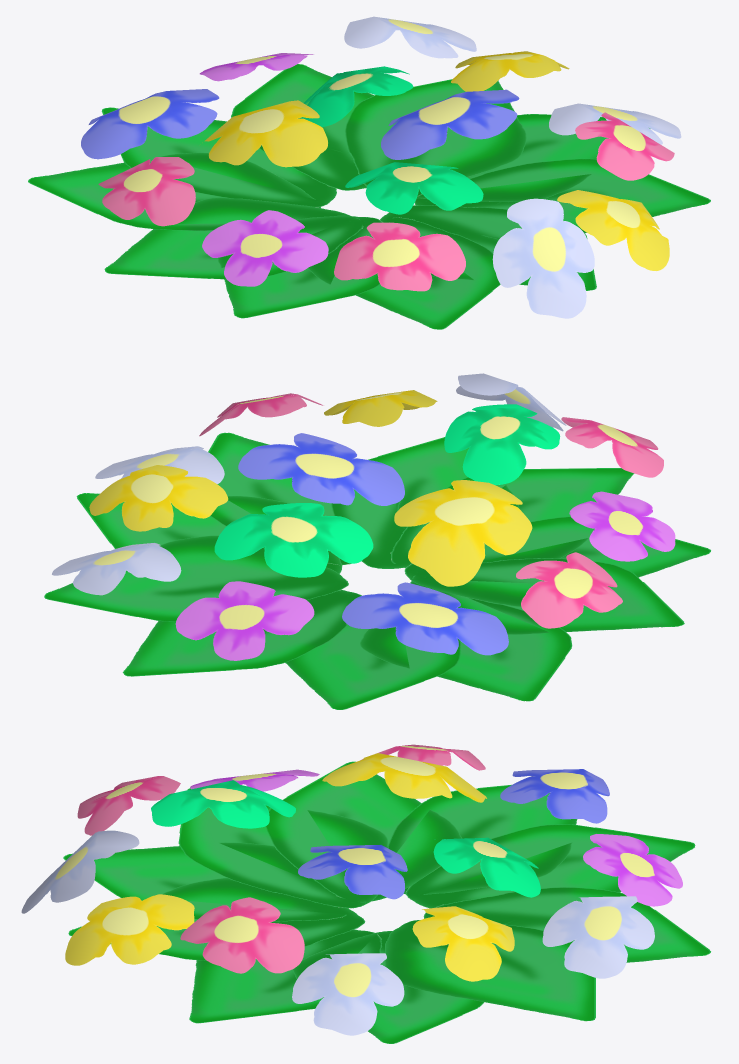
File: SM_Flowers_01.fbx
3 views of the same model, one above another, from view 1: azimuth 30°, elevation 25°; view 2: azimuth 150°, elevation 25°; view 3: azimuth 270°, elevation 25° (orthographic). The views are drawn at different scales.
Parts seen in each view (by area): view 1: SM_Flowers_01; view 2: SM_Flowers_01; view 3: SM_Flowers_01.
Boxes of the visible parts, <box> form: SM_Flowers_01: <box>28,16,710,329</box>; SM_Flowers_01: <box>44,373,710,709</box>; SM_Flowers_01: <box>21,744,710,1043</box>.
Bounding box in the file's own units: 25.17 × 4.39 × 25.72.
